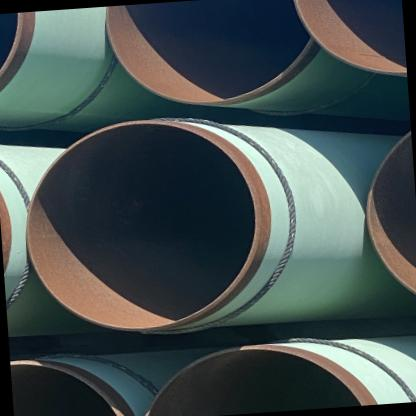clean: (226, 189, 278, 236)
